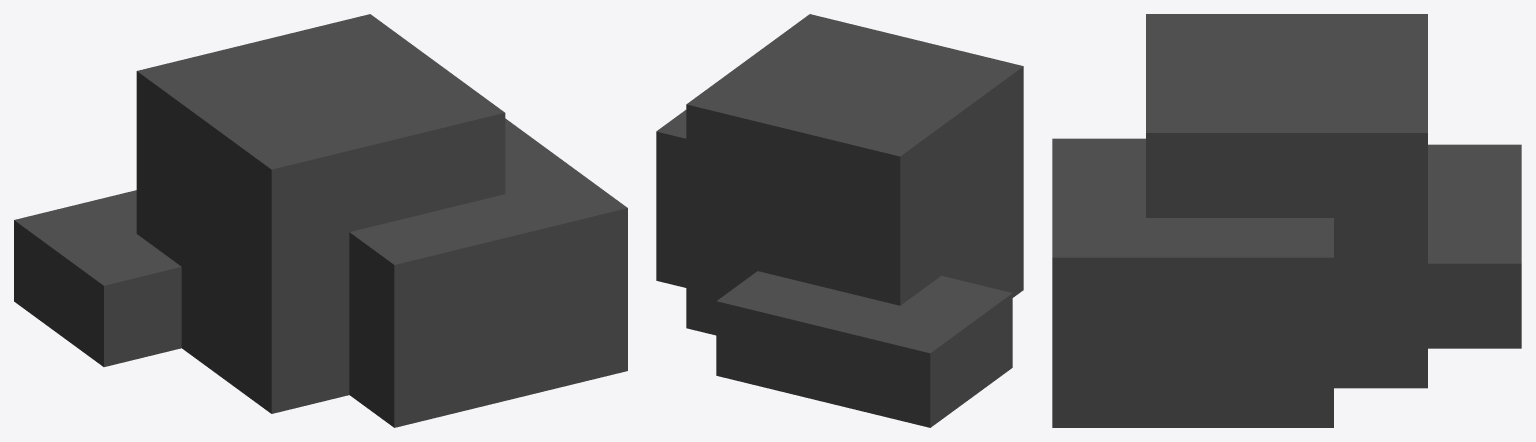
Rendered from stone_2.obj.
3 renders of one model, left to right at view 1: azimuth 30°, elevation 25°; view 2: azimuth 150°, elevation 25°; view 3: azimuth 270°, elevation 25°, orthographic. The views are drawn at different scales.
Size of the model in its own units: 0.5 by 0.3 by 0.5.
Materials: 1 (1 with a texture image).
